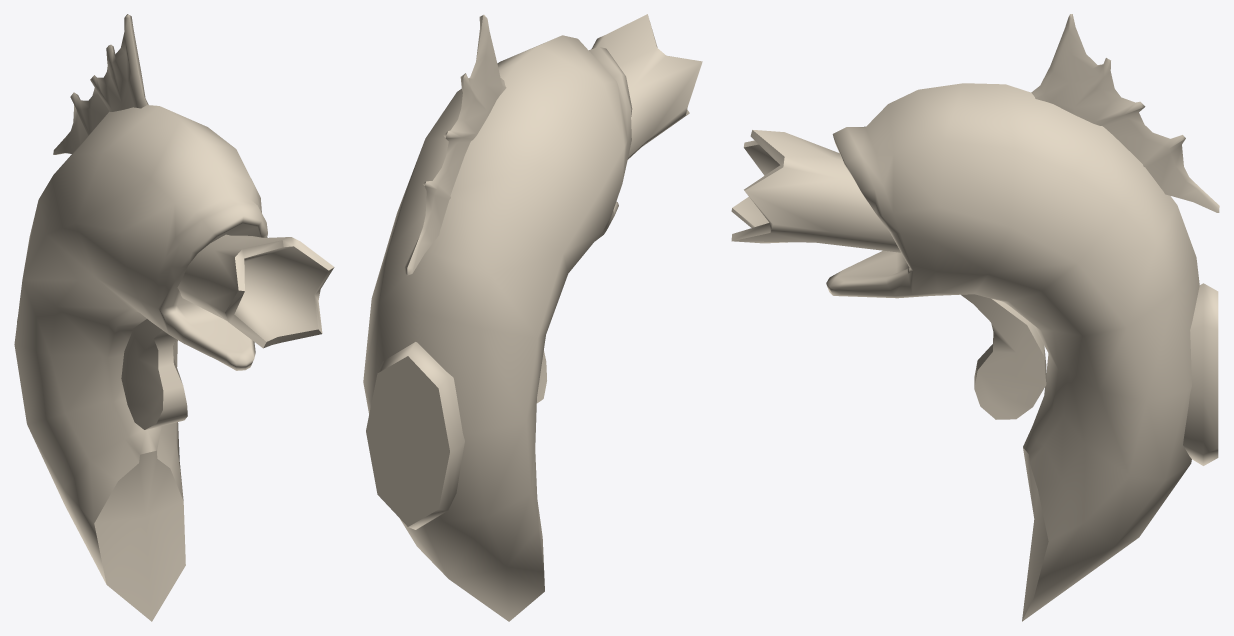
Rendered from weapon-slice-base.glb.
The picture shows the model from 3 angles, left to right: view 1: azimuth 30°, elevation 25°; view 2: azimuth 150°, elevation 25°; view 3: azimuth 270°, elevation 25°; orthographic projection. The views are drawn at different scales.
Bounding box in the file's own units: 0.5278 × 1.82 × 1.33.
